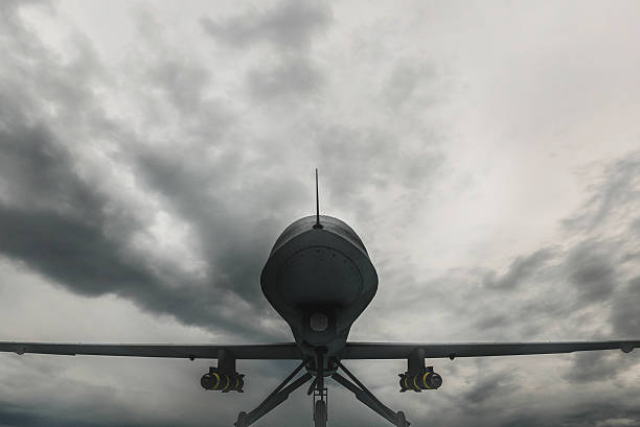military drone: (0, 168, 640, 427)
